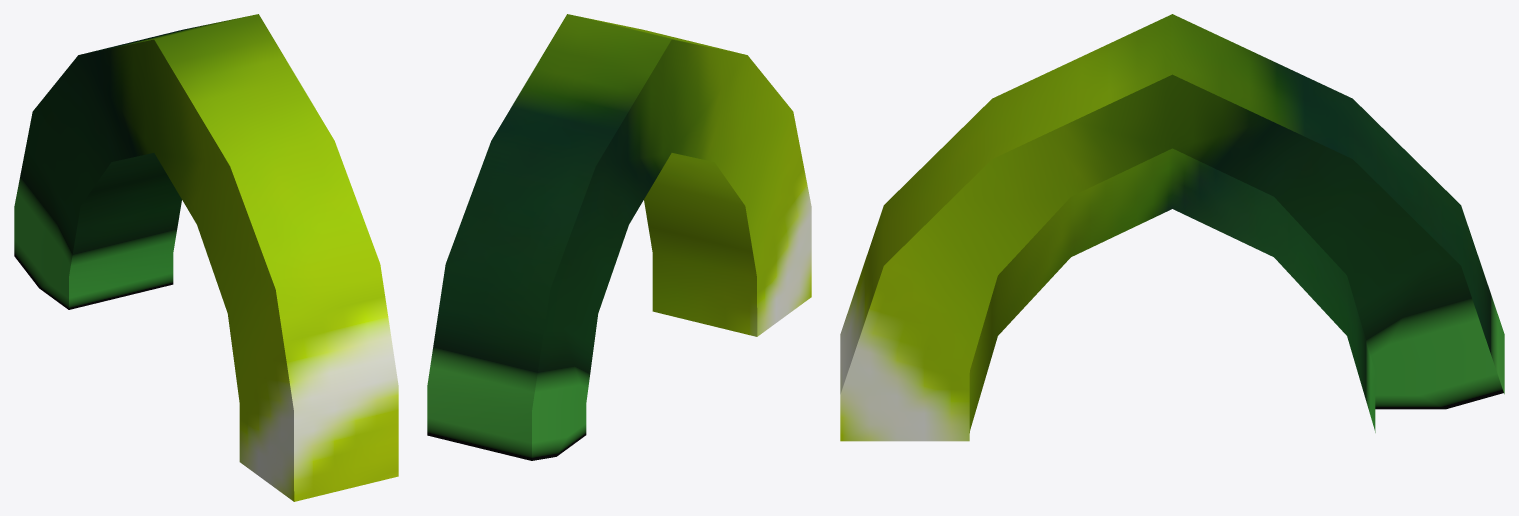
The model's file is sn_shengdi_doorheader_001.FBX.
3 views of the same model, side by side, from view 1: azimuth 30°, elevation 25°; view 2: azimuth 150°, elevation 25°; view 3: azimuth 270°, elevation 25° (orthographic). The views are drawn at different scales.
Visible parts, largest first — view 1: sn_shengdi_doorheader_001; view 2: sn_shengdi_doorheader_001; view 3: sn_shengdi_doorheader_001.
Part boxes in pixels (left/top/right/bottom): sn_shengdi_doorheader_001: left=14, top=14, right=398, bottom=501; sn_shengdi_doorheader_001: left=427, top=14, right=811, bottom=460; sn_shengdi_doorheader_001: left=840, top=14, right=1504, bottom=441.
Bounding box in the file's own units: 145 × 670 × 476.
